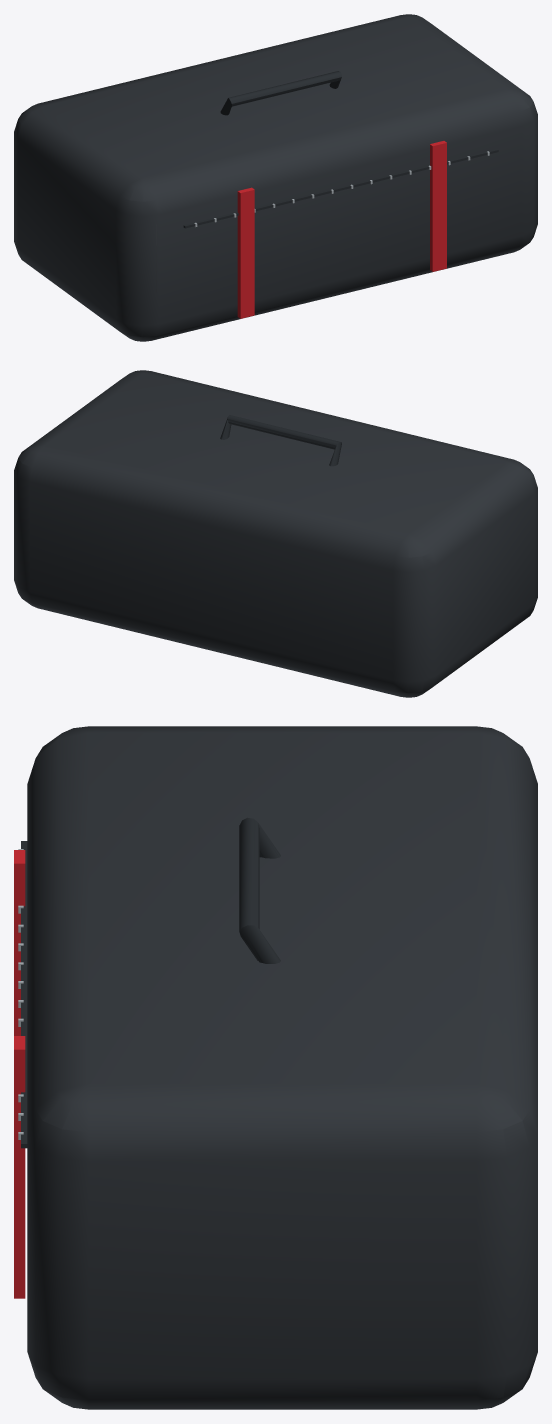
Rendered from ob_mask_bag.glb.
The picture shows the model from 3 angles, top to bottom: view 1: azimuth 30°, elevation 25°; view 2: azimuth 150°, elevation 25°; view 3: azimuth 270°, elevation 25°; orthographic projection. The views are drawn at different scales.
Parts seen in each view (by area): view 1: ob_mask_bag; view 2: ob_mask_bag; view 3: ob_mask_bag.
Part boxes in pixels (box(x1,y1,x2,y2)): ob_mask_bag: box(14, 14, 537, 341); ob_mask_bag: box(14, 370, 537, 697); ob_mask_bag: box(14, 726, 537, 1409).
Size of the model in its own units: 0.73 by 0.3 by 0.4.
